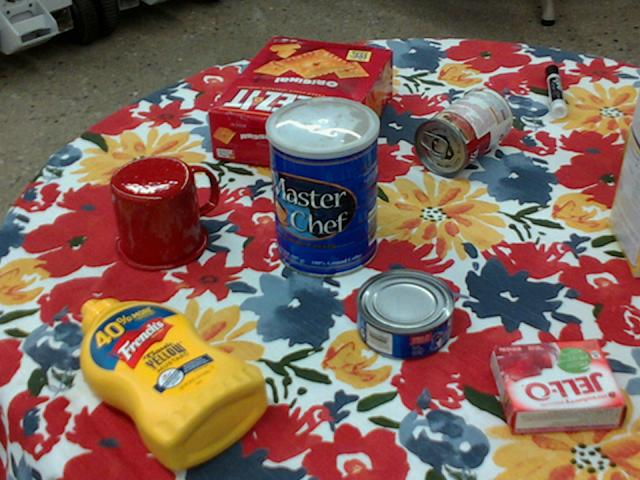cracker_box: (209, 36, 394, 177)
gelatin_box: (494, 340, 628, 433)
large_marker: (546, 64, 566, 116)
master_chef_can: (264, 95, 378, 278)
mug: (109, 155, 216, 271)
mustard_bottle: (80, 298, 269, 469)
potted_meat_can: (620, 107, 639, 161)
sugar_box: (608, 91, 639, 278)
tomato_soup_can: (415, 85, 512, 175)
tuna_fish_can: (356, 270, 456, 360)
